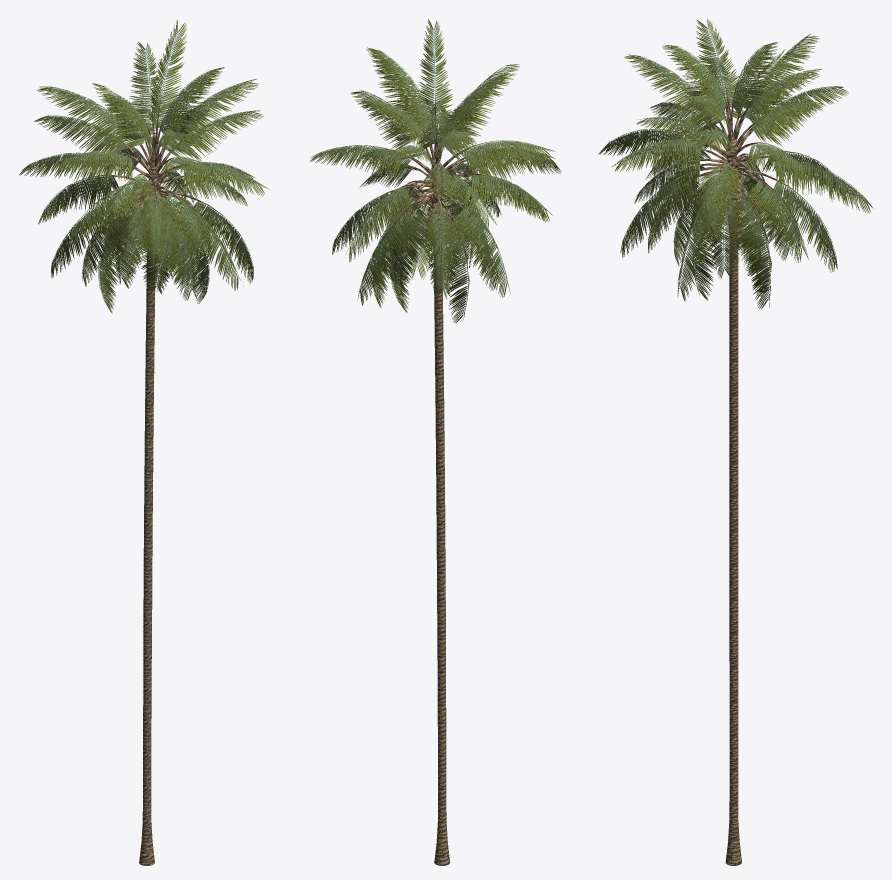
File: Palm_1_3.fbx
3 renders of one model, left to right at view 1: azimuth 30°, elevation 25°; view 2: azimuth 150°, elevation 25°; view 3: azimuth 270°, elevation 25°, orthographic. The views are drawn at different scales.
Visible parts, largest first — view 1: Palm_1_3; view 2: Palm_1_3; view 3: Palm_1_3.
Part boxes in pixels (<box>): Palm_1_3: <box>19,19,269,865</box>; Palm_1_3: <box>310,19,561,865</box>; Palm_1_3: <box>598,18,873,865</box>.
Size of the model in its own units: 612 by 2232 by 675.
